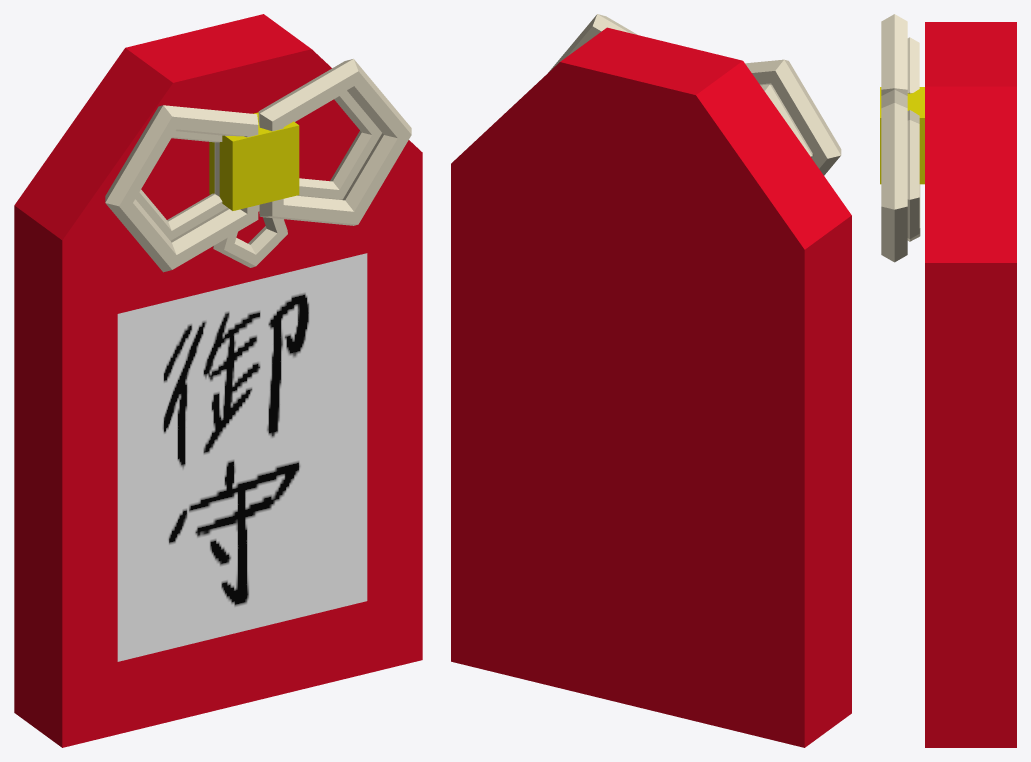
The model's file is omamori.fbx.
3 views of the same model, side by side, from view 1: azimuth 30°, elevation 25°; view 2: azimuth 150°, elevation 25°; view 3: azimuth 270°, elevation 25° (orthographic). The views are drawn at different scales.
Visible parts, largest first — view 1: 立方体, トーラス.009, トーラス.001, 立方体.001, トーラス.002, トーラス.003, トーラス.012; view 2: 立方体, トーラス.009, トーラス.001; view 3: 立方体, トーラス.001, トーラス.009, トーラス.002, 立方体.001, トーラス.003.
Boxes of the visible parts, x1=… form: 立方体: x1=14, y1=14, x2=422, y2=747; トーラス.009: x1=105, y1=105, x2=258, y2=272; トーラス.001: x1=258, y1=59, x2=411, y2=225; 立方体.001: x1=209, y1=112, x2=299, y2=210; トーラス.002: x1=294, y1=90, x2=381, y2=199; トーラス.003: x1=135, y1=131, x2=227, y2=240; トーラス.012: x1=213, y1=205, x2=287, y2=267; 立方体: x1=451, y1=27, x2=851, y2=747; トーラス.009: x1=745, y1=59, x2=841, y2=175; トーラス.001: x1=548, y1=14, x2=637, y2=72; 立方体: x1=925, y1=22, x2=1016, y2=747; トーラス.001: x1=881, y1=89, x2=907, y2=262; トーラス.009: x1=881, y1=14, x2=907, y2=95; トーラス.002: x1=907, y1=110, x2=919, y2=238; 立方体.001: x1=880, y1=87, x2=924, y2=184; トーラス.003: x1=907, y1=37, x2=919, y2=93.
Size of the model in its own units: 130 by 220 by 44.73.
